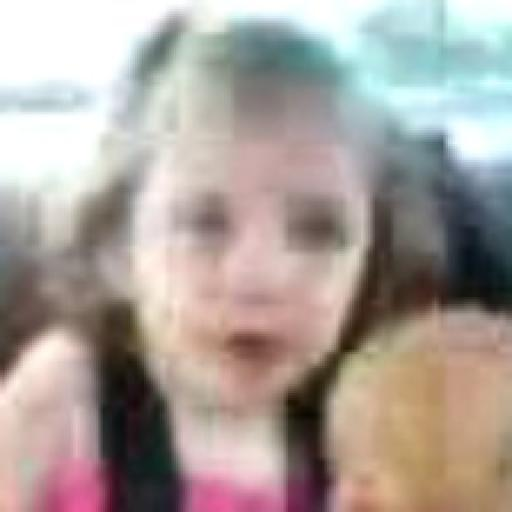Autism: (90, 18, 421, 434)
